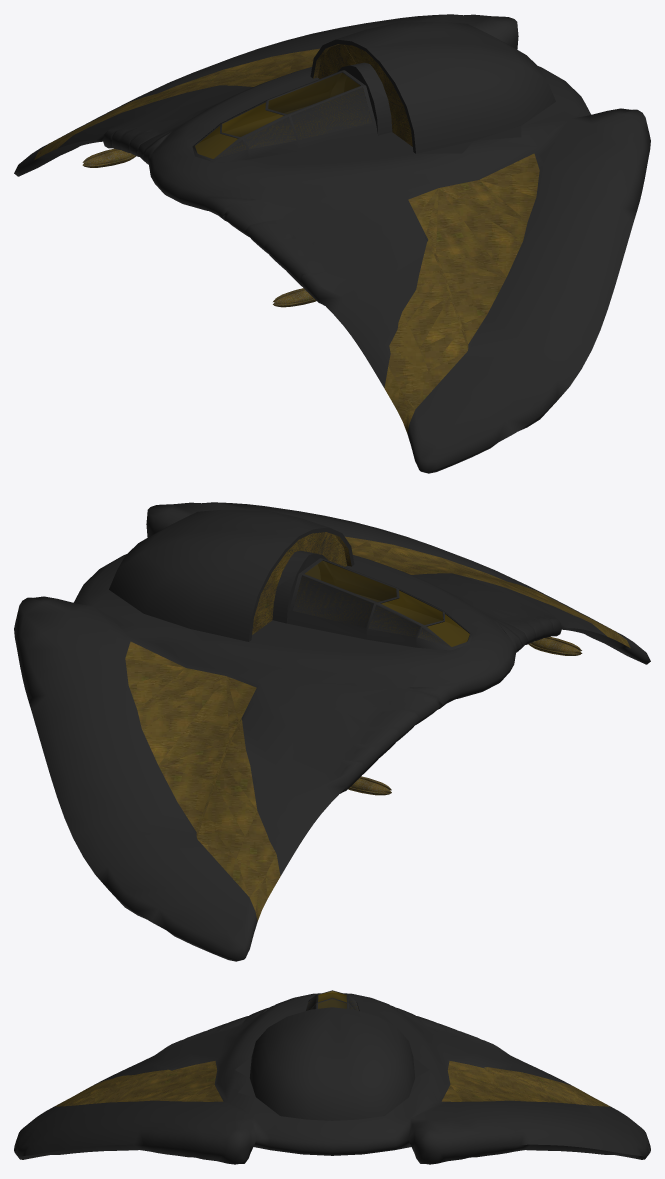
File: Death_Glider.dae
3 renders of one model, top to bottom at view 1: azimuth 30°, elevation 25°; view 2: azimuth 150°, elevation 25°; view 3: azimuth 270°, elevation 25°, orthographic. The views are drawn at different scales.
Visible parts, largest first — view 1: Goa_uld_Death_Glider_1 (×11), group_8; view 2: Goa_uld_Death_Glider_1 (×11), group_4; view 3: Goa_uld_Death_Glider_1 (×4).
Boxes of the visible parts, <box> form: Goa_uld_Death_Glider_1 (×11): <box>14,14,650,473</box>; group_8: <box>82,148,135,167</box>; Goa_uld_Death_Glider_1 (×11): <box>14,502,650,961</box>; group_4: <box>528,636,582,655</box>; Goa_uld_Death_Glider_1 (×4): <box>14,993,650,1164</box>.
Bounding box in the file's own units: 227 × 390 × 125.
